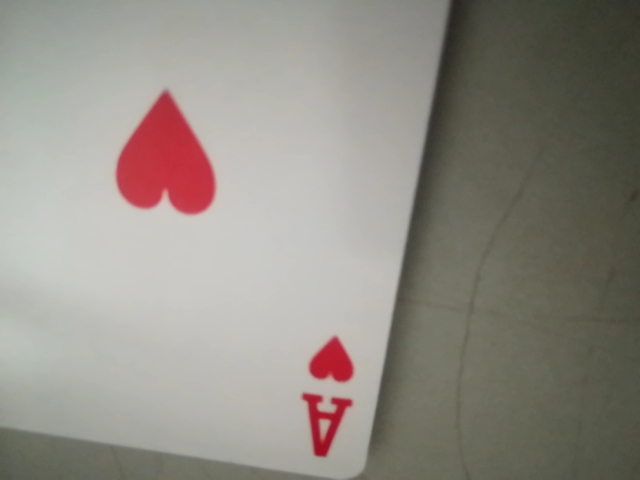hx a: (297, 325, 372, 461)
